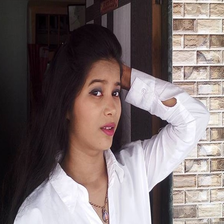no_mask: (75, 56, 120, 154)
